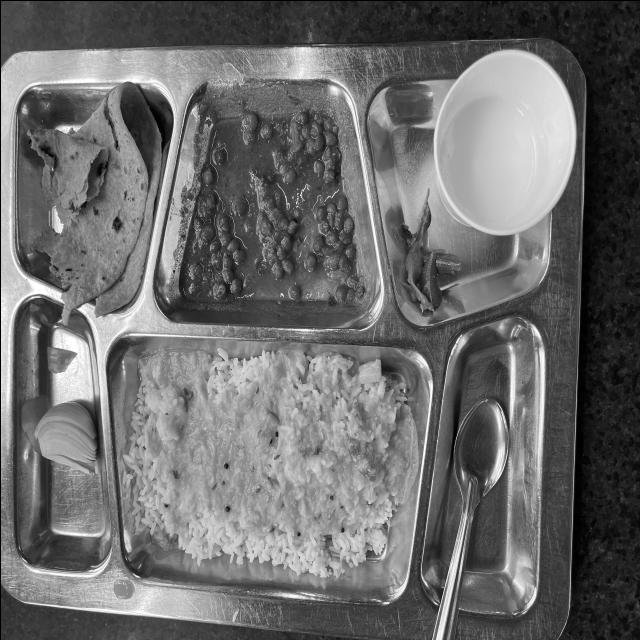70-Food-Left: (1, 86, 556, 604)
